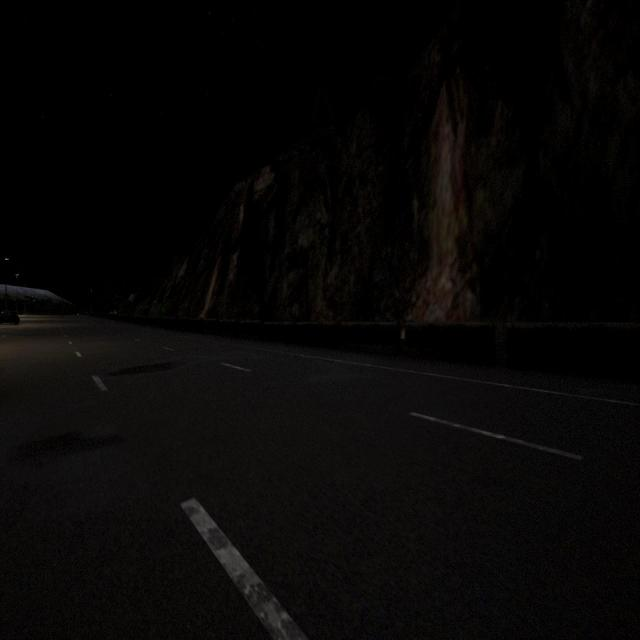Vehicle: (0, 310, 19, 328)
